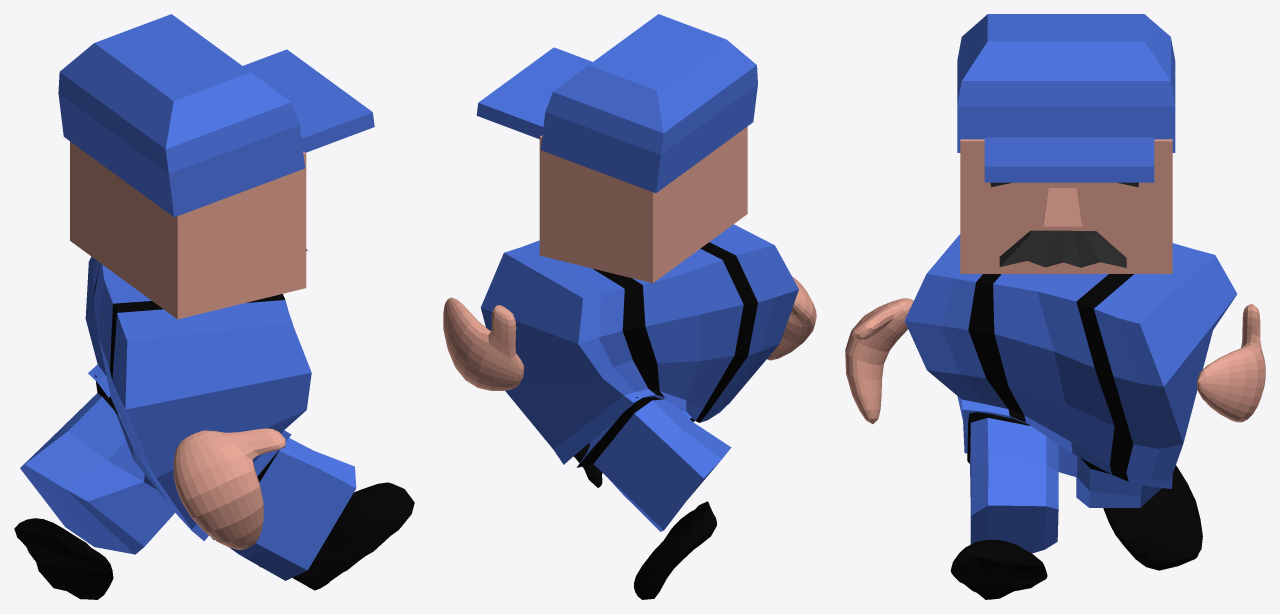
File: m_mechanic.fbx
3 views of the same model, side by side, from view 1: azimuth 30°, elevation 25°; view 2: azimuth 150°, elevation 25°; view 3: azimuth 270°, elevation 25° (orthographic). The views are drawn at different scales.
Visible parts, largest first — view 1: Cube.001; view 2: Cube.001; view 3: Cube.001.
Boxes of the visible parts, bbox=[...] form: Cube.001: bbox=[14, 14, 414, 599]; Cube.001: bbox=[443, 14, 816, 599]; Cube.001: bbox=[845, 14, 1265, 599].
Size of the model in its own units: 468 by 851 by 574.
